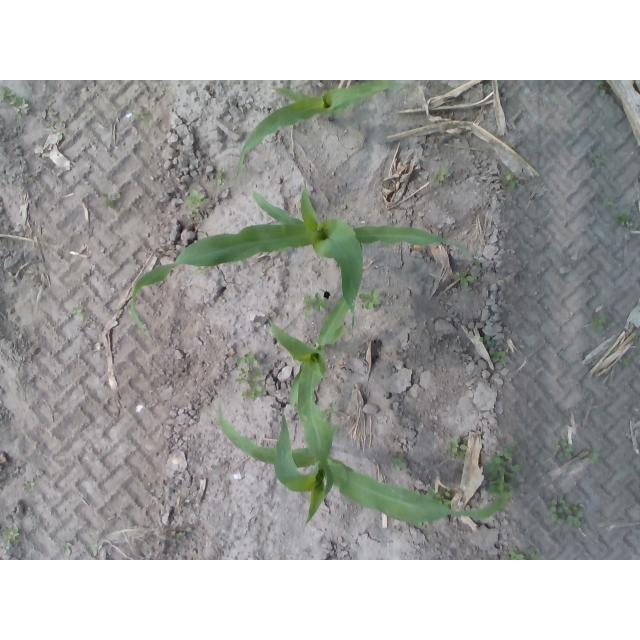Maize: (130, 181, 454, 348), (218, 416, 513, 525), (268, 293, 357, 505), (238, 80, 398, 180)
Weeds: (490, 448, 519, 489), (240, 354, 265, 394), (554, 499, 586, 526), (360, 287, 384, 309), (300, 295, 329, 312), (444, 438, 469, 456), (455, 269, 473, 287), (616, 210, 634, 228), (188, 189, 205, 208), (557, 440, 573, 460), (490, 347, 507, 364), (592, 309, 608, 327), (588, 151, 604, 169), (501, 175, 520, 190), (107, 192, 122, 208), (3, 86, 17, 103), (508, 547, 525, 560), (435, 168, 450, 182), (393, 455, 407, 470), (597, 80, 609, 97), (5, 527, 19, 541), (15, 101, 29, 115), (327, 402, 338, 418), (483, 333, 494, 347), (603, 198, 617, 209), (211, 175, 223, 186), (72, 306, 83, 315), (138, 112, 150, 120)
